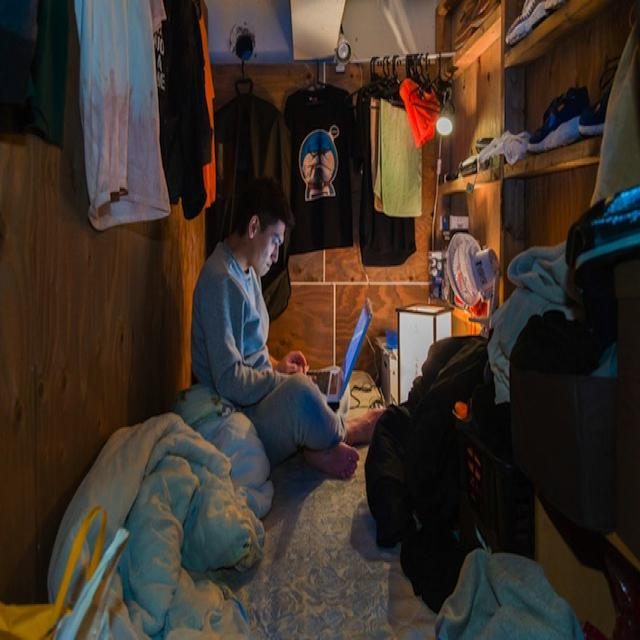adult: (187, 179, 386, 476)
